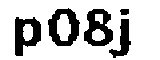0: (45, 6, 80, 53)
8: (82, 7, 114, 50)
j: (113, 7, 136, 60)
p: (11, 12, 42, 58)
